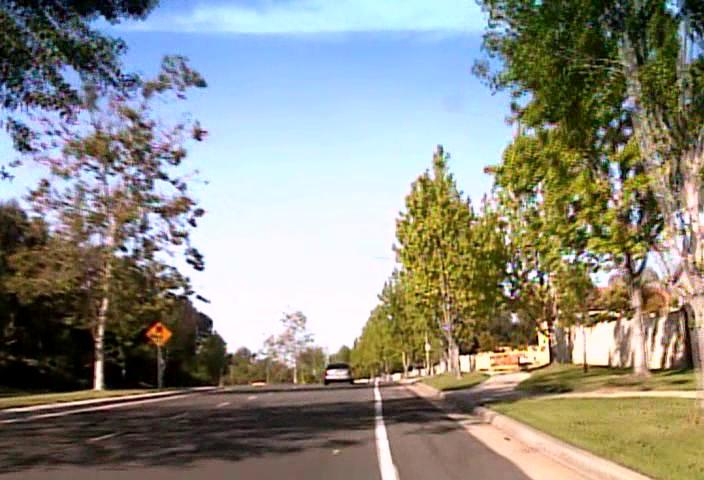signalAhead: (144, 320, 173, 348)
